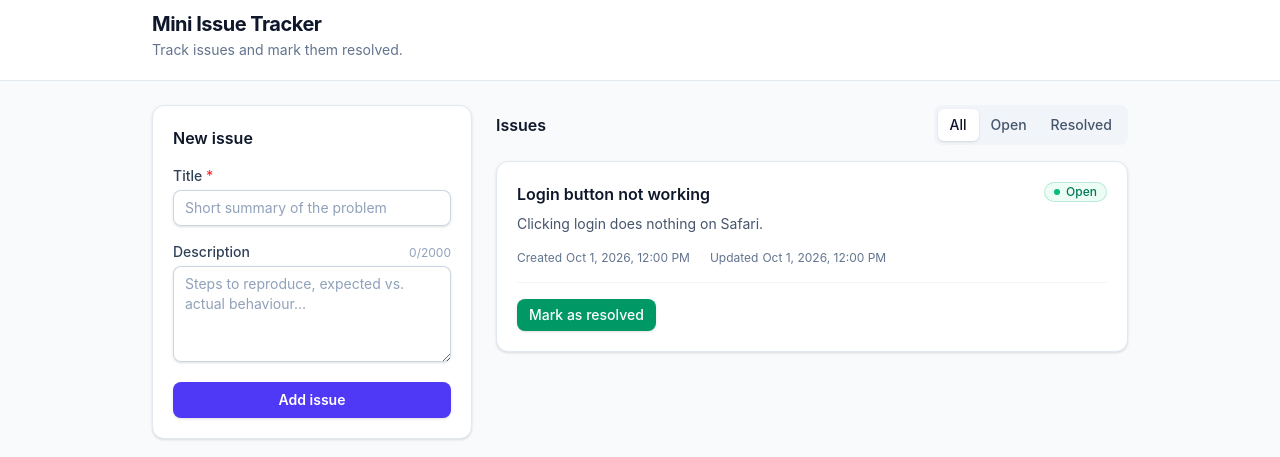
Test: App › removes a resolved issue from the Open view
The image size is (1280, 457).
Expected: the element "Login button not working" is shown, x1=496 y1=161 x2=1128 y2=352
Click the button "Open" at (1009, 125), box x1=979 y1=109 x2=1039 y2=141
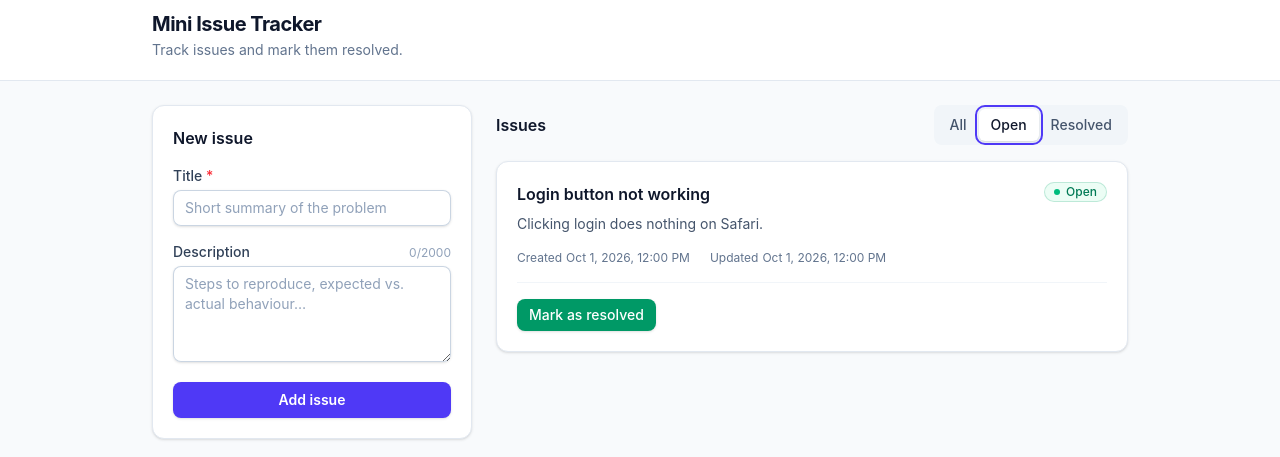
Click the button "Mark as resolved" at (586, 315), box x1=517 y1=299 x2=656 y2=331
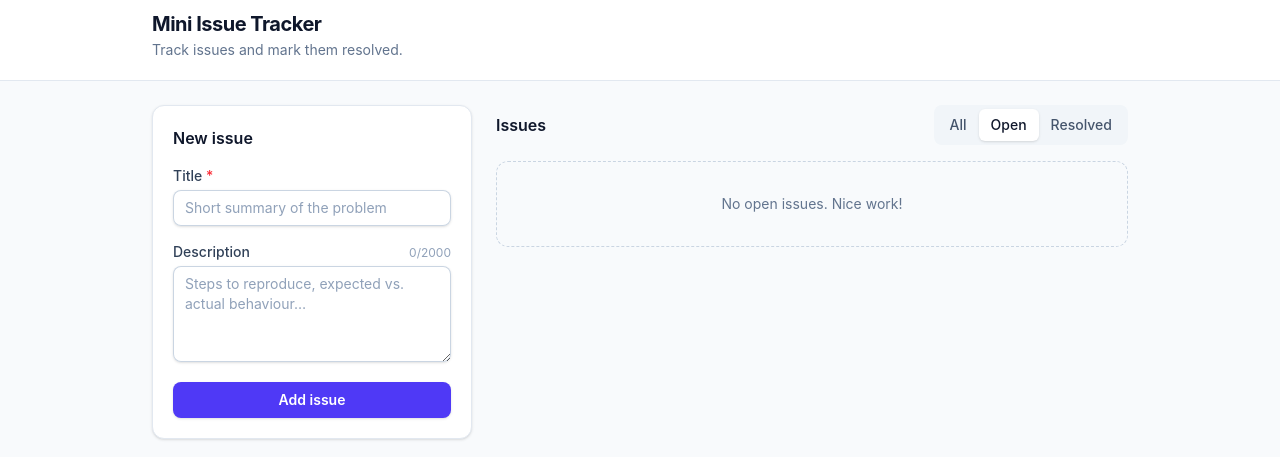
Result: the text "No open issues. Nice work!" is shown at x1=496 y1=161 x2=1128 y2=247
